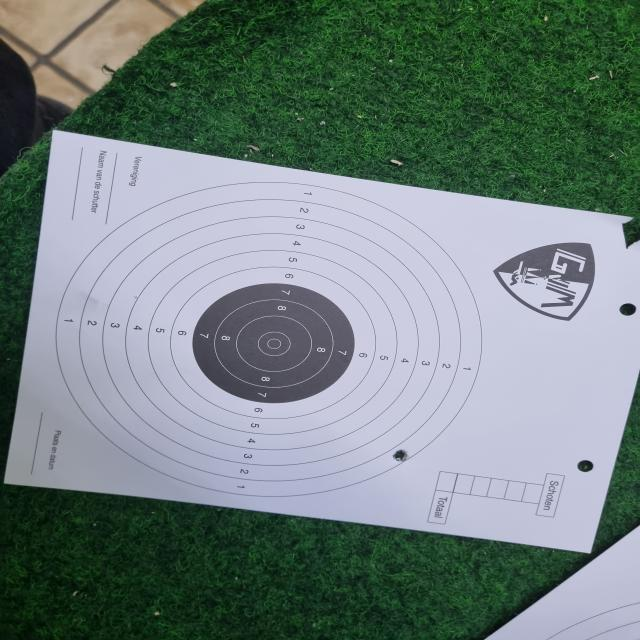1: (392, 447, 411, 463)
Target: (54, 184, 482, 497)
black_contour: (194, 284, 355, 405)
